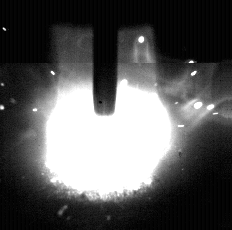arame: (94, 0, 118, 116)
poca: (45, 0, 172, 230)
